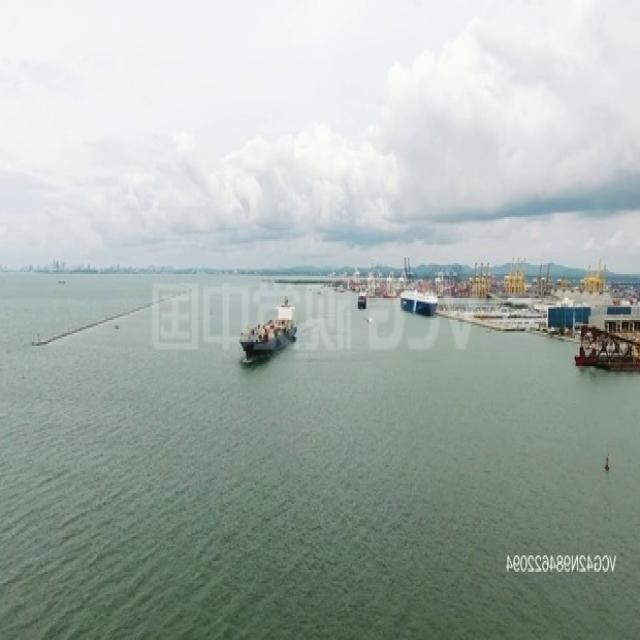cargoship: (237, 296, 297, 360)
